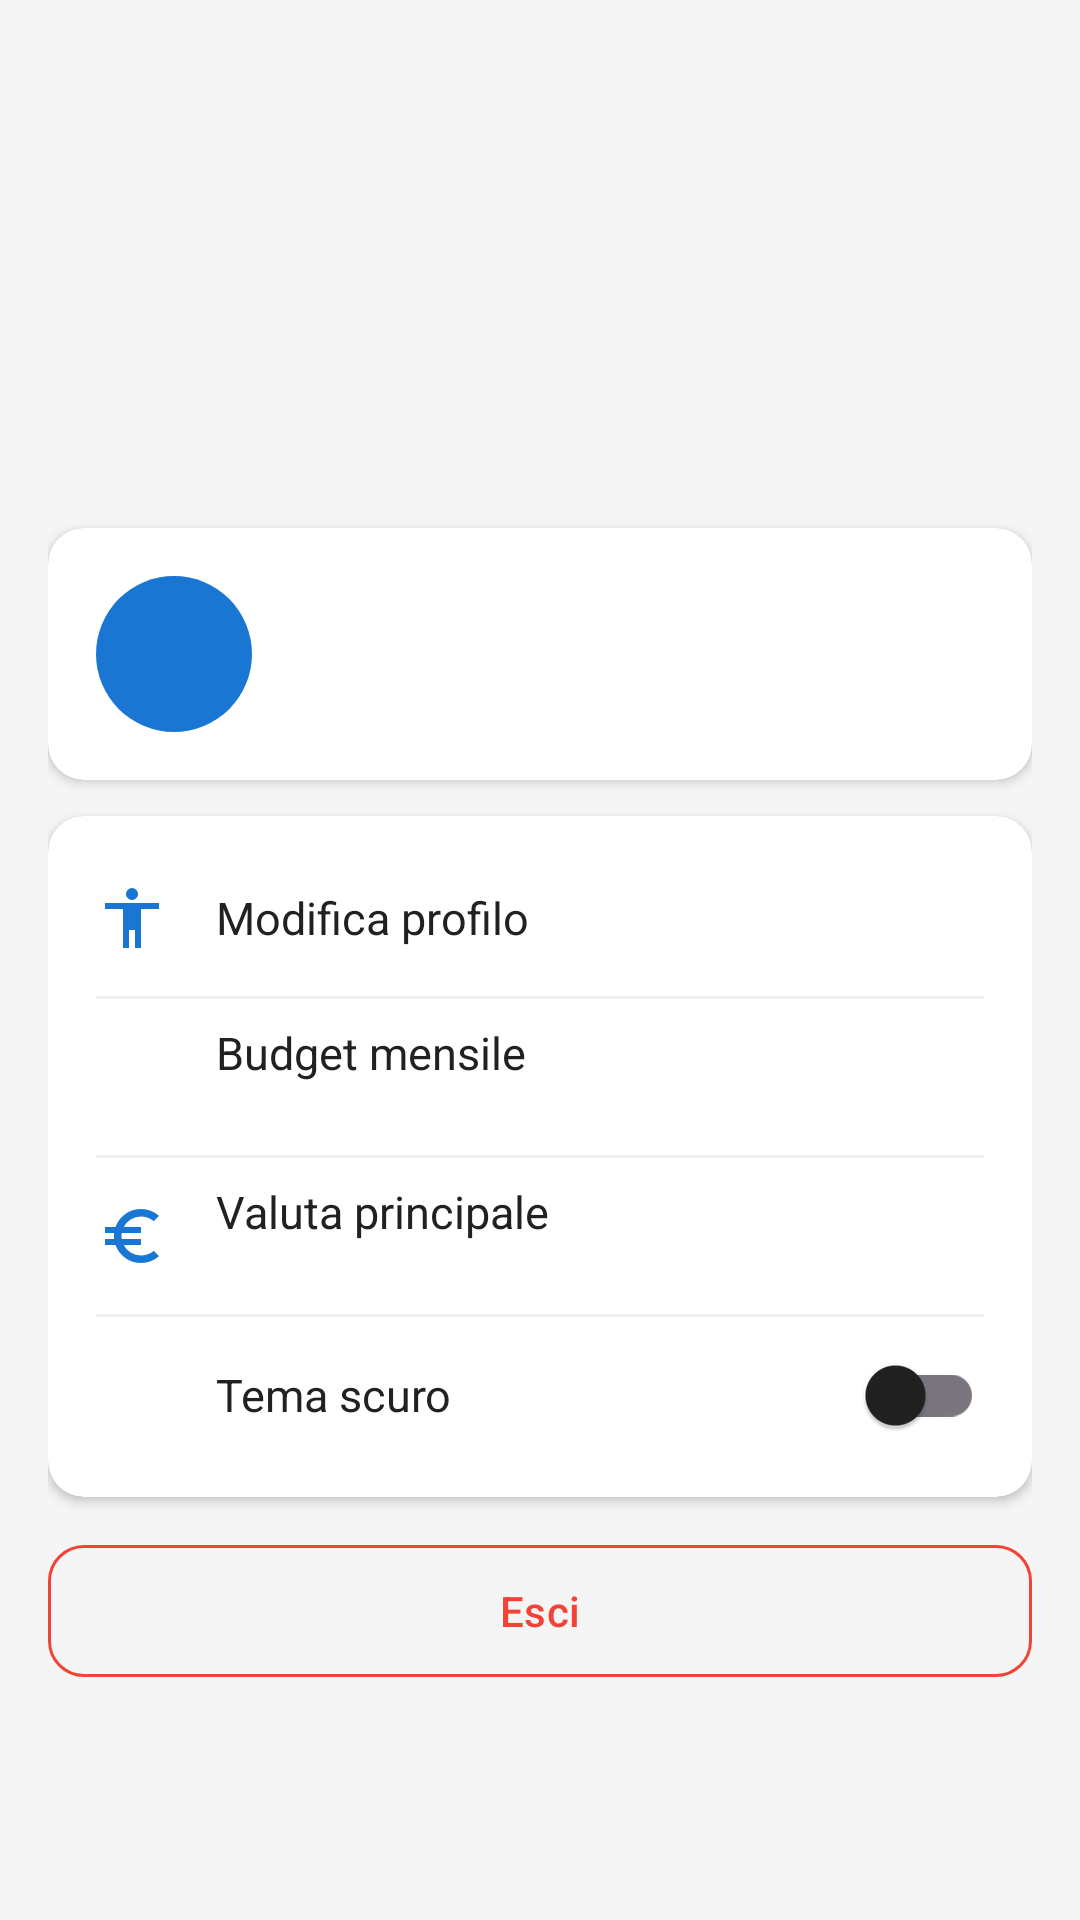

Icon bounding boxes for this 1080 × 1920 phone screenshot, format (x1, y1, x2, y2):
value: (105, 1209, 159, 1263)
